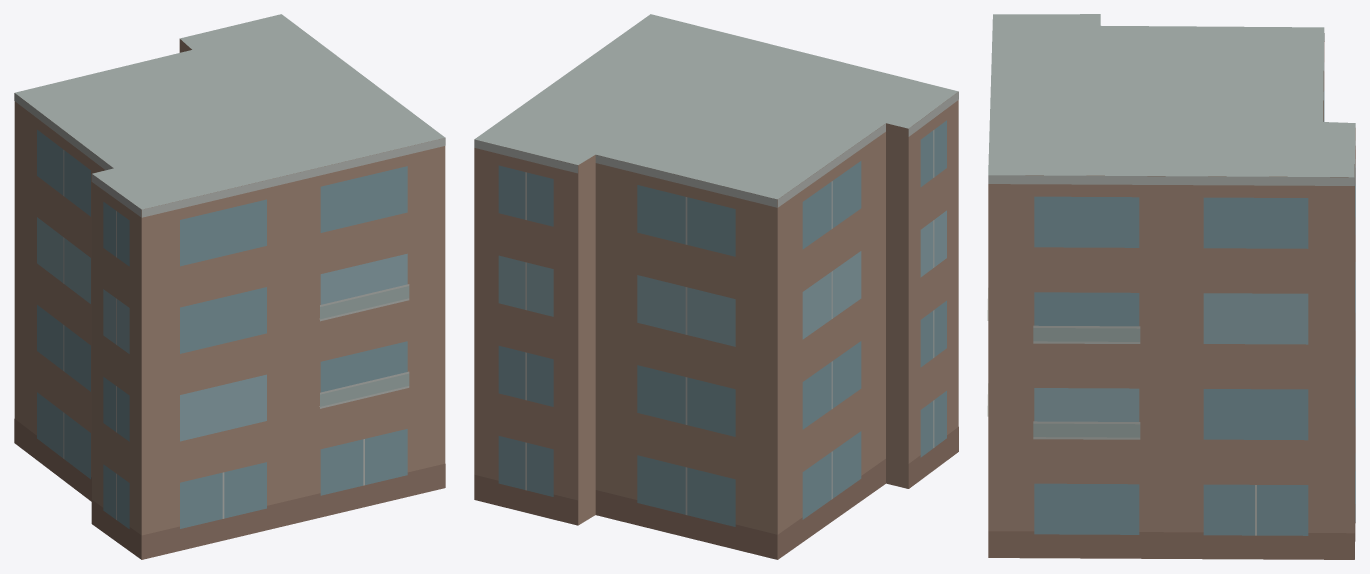
The model's file is survey-upis-32900482.glb.
The picture shows the model from 3 angles, left to right: view 1: azimuth 30°, elevation 25°; view 2: azimuth 150°, elevation 25°; view 3: azimuth 270°, elevation 25°; orthographic projection. The views are drawn at different scales.
Visible parts, largest first — view 1: survey-upis-32900482.tmp; view 2: survey-upis-32900482.tmp; view 3: survey-upis-32900482.tmp.
Boxes of the visible parts, x1,y1,x2,y2 form: survey-upis-32900482.tmp: [14, 14, 445, 559]; survey-upis-32900482.tmp: [474, 14, 958, 559]; survey-upis-32900482.tmp: [987, 14, 1355, 559].
Bounding box in the file's own units: 9.61 × 10.5 × 9.17.
